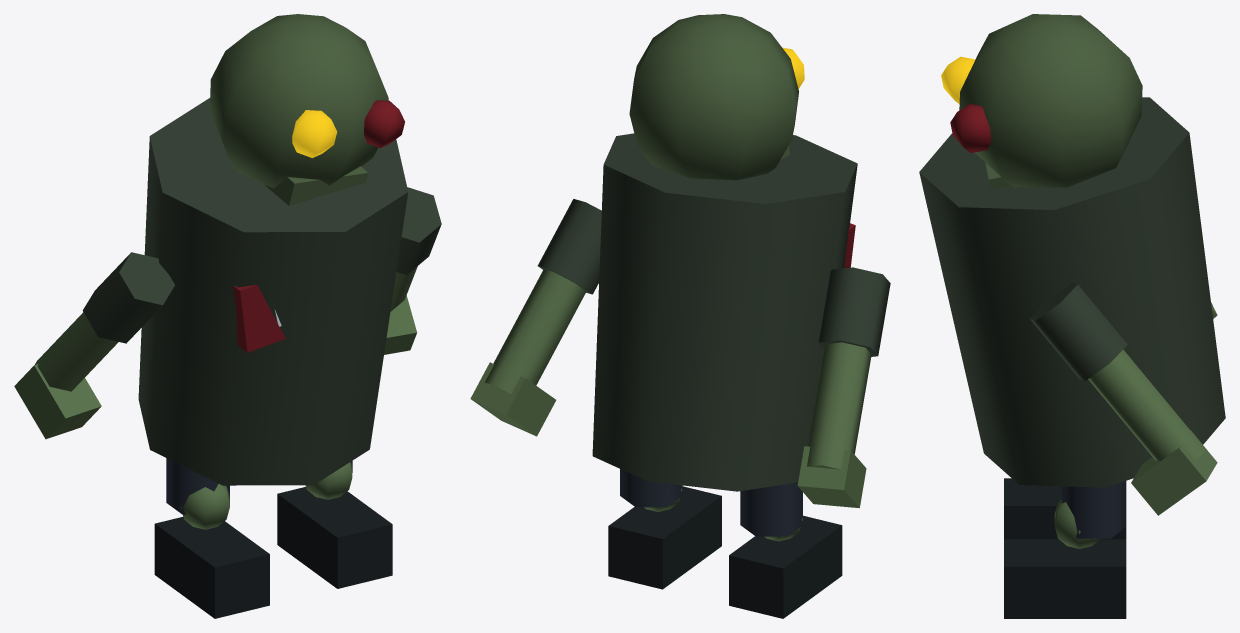
The model's file is zombie.glb.
The picture shows the model from 3 angles, left to right: view 1: azimuth 30°, elevation 25°; view 2: azimuth 150°, elevation 25°; view 3: azimuth 270°, elevation 25°; orthographic projection. The views are drawn at different scales.
Parts seen in each view (by area): view 1: enemy_zombie; view 2: enemy_zombie; view 3: enemy_zombie.
Part boxes in pixels (<box>): enemy_zombie: <box>14,14,441,618</box>; enemy_zombie: <box>470,14,890,618</box>; enemy_zombie: <box>919,14,1225,618</box>.
Bounding box in the file's own units: 1.24 × 1.73 × 0.851.
